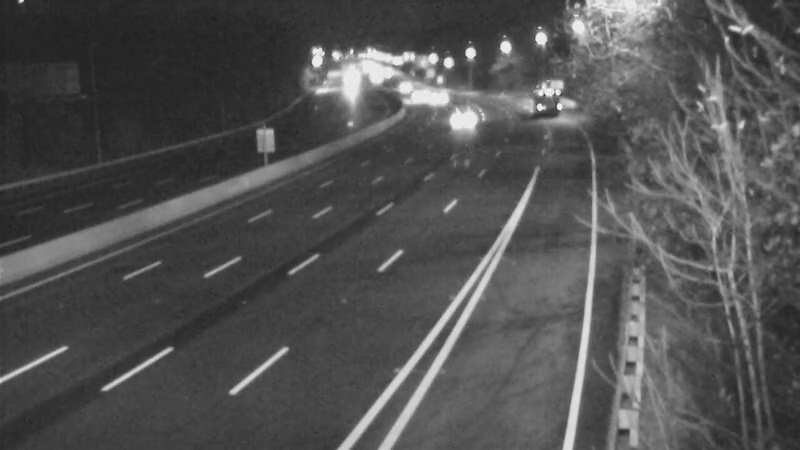vehicle: (373, 60, 423, 110), (414, 70, 464, 120), (390, 72, 440, 122), (524, 78, 574, 128), (437, 98, 487, 148)
